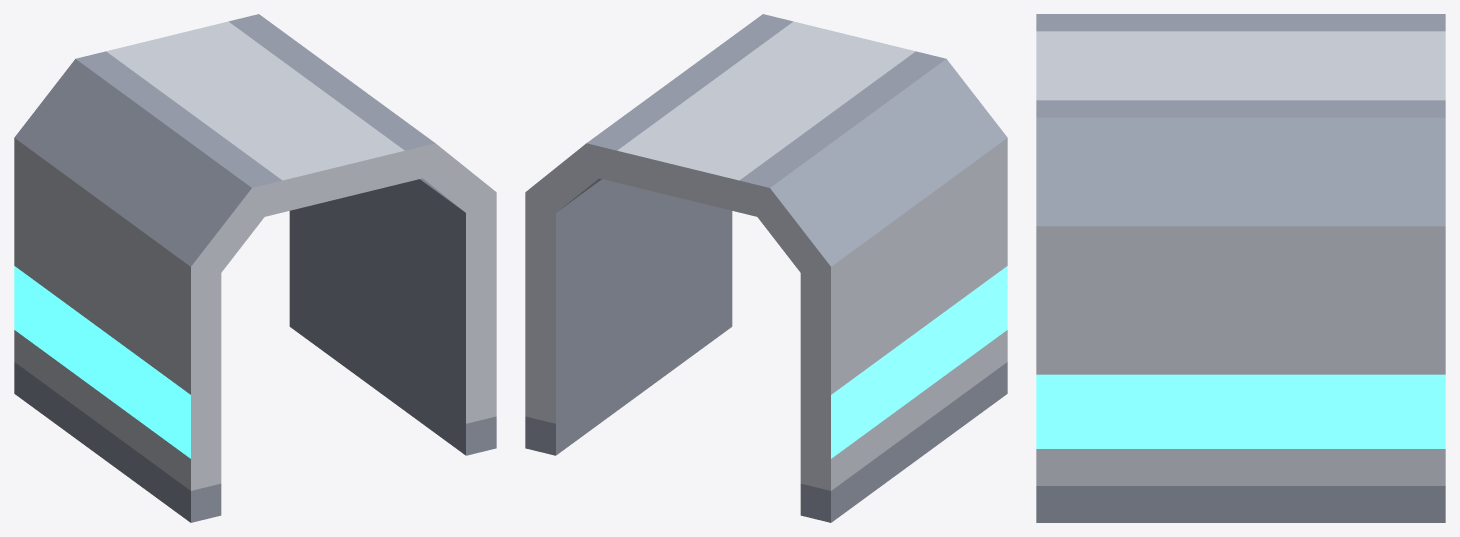
Rendered from corridor.glb.
3 views of the same model, side by side, from view 1: azimuth 30°, elevation 25°; view 2: azimuth 150°, elevation 25°; view 3: azimuth 270°, elevation 25° (orthographic). The views are drawn at different scales.
Parts seen in each view (by area): view 1: corridor; view 2: corridor; view 3: corridor.
Boxes of the visible parts, x1,y1,x2,y2 form: corridor: (14,14,496,522); corridor: (525,14,1007,522); corridor: (1036,14,1445,522).
Size of the model in its own units: 1 by 1 by 1.
